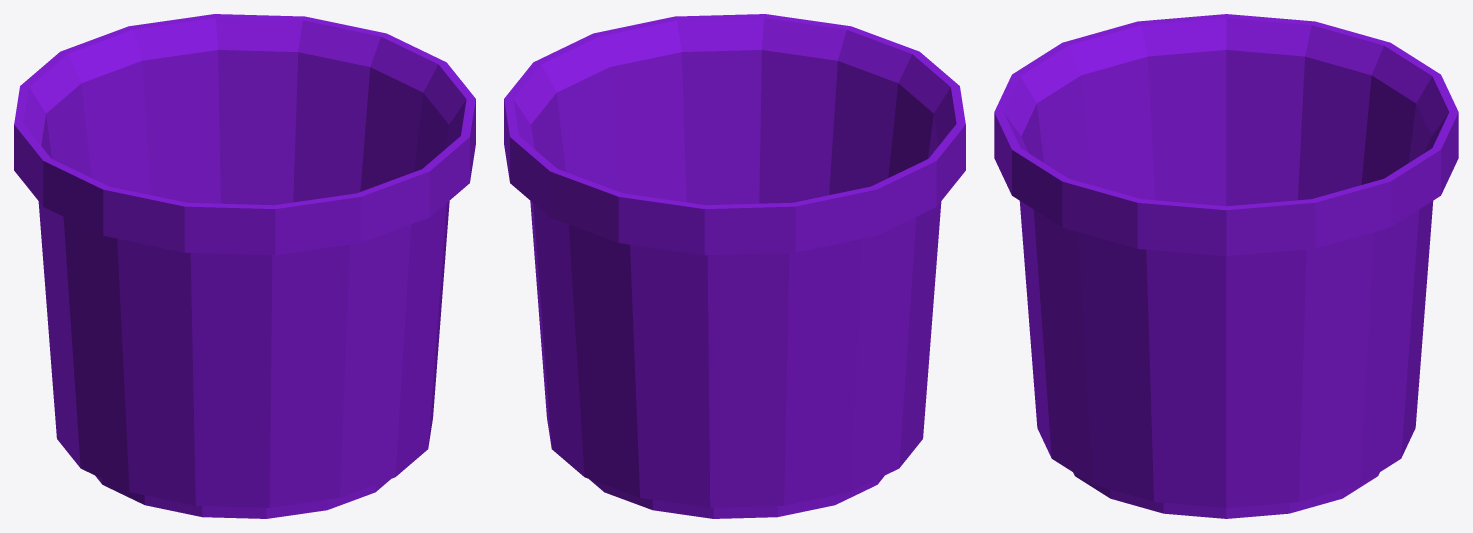
File: Prop_Biblioteca_Lapicero.fbx
3 views of the same model, side by side, from view 1: azimuth 30°, elevation 25°; view 2: azimuth 150°, elevation 25°; view 3: azimuth 270°, elevation 25° (orthographic).
Parts seen in each view (by area): view 1: Lapicero; view 2: Lapicero; view 3: Lapicero.
Part boxes in pixels (x1,y1,x2,y2): Lapicero: [14, 14, 475, 518]; Lapicero: [504, 14, 965, 518]; Lapicero: [994, 14, 1458, 518].
Size of the model in its own units: 215 by 172 by 215.
